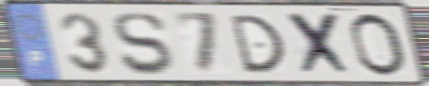3: (59, 10, 111, 76)
7: (170, 10, 222, 77)
D: (227, 13, 288, 76)
O: (348, 11, 410, 78)
S: (111, 11, 174, 77)
X: (284, 11, 357, 79)
